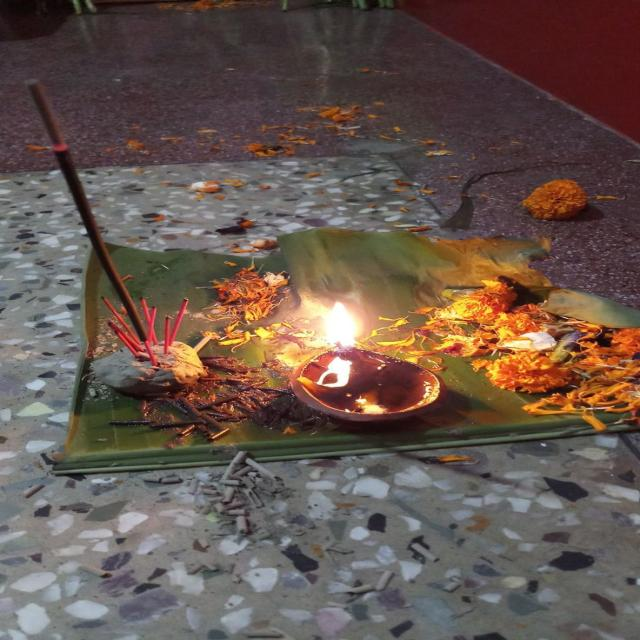fire: (325, 301, 359, 347)
